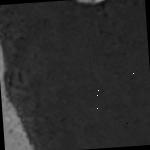colony: (59, 0, 126, 11), (141, 0, 145, 2)
